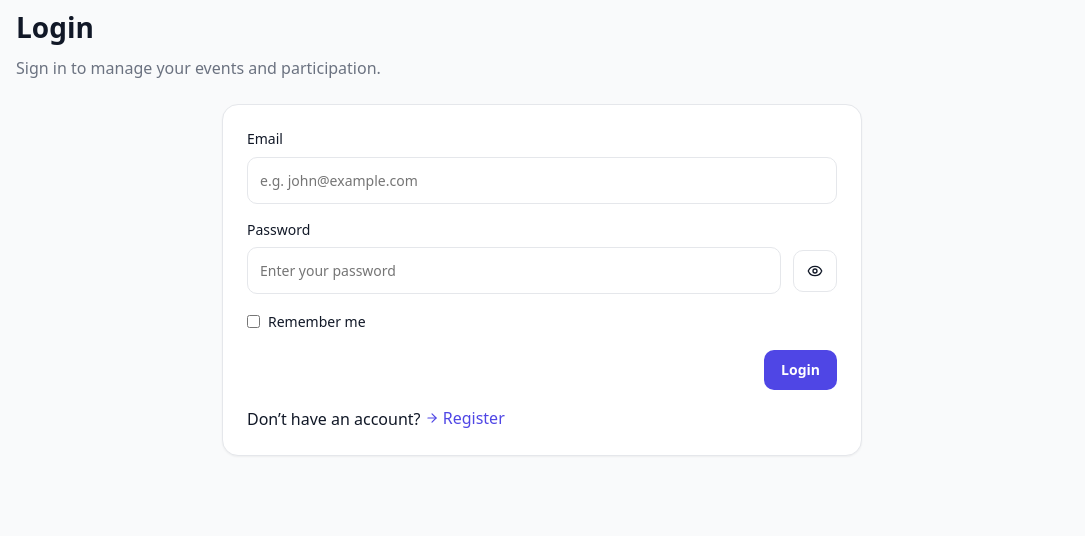
Test case: LoginPage › shows error message when login fails
This screenshot has width=1085, height=536.
Step 1. Type "test@test.com" into the field labelled "Email" → [542, 180], box [247,157,837,204]
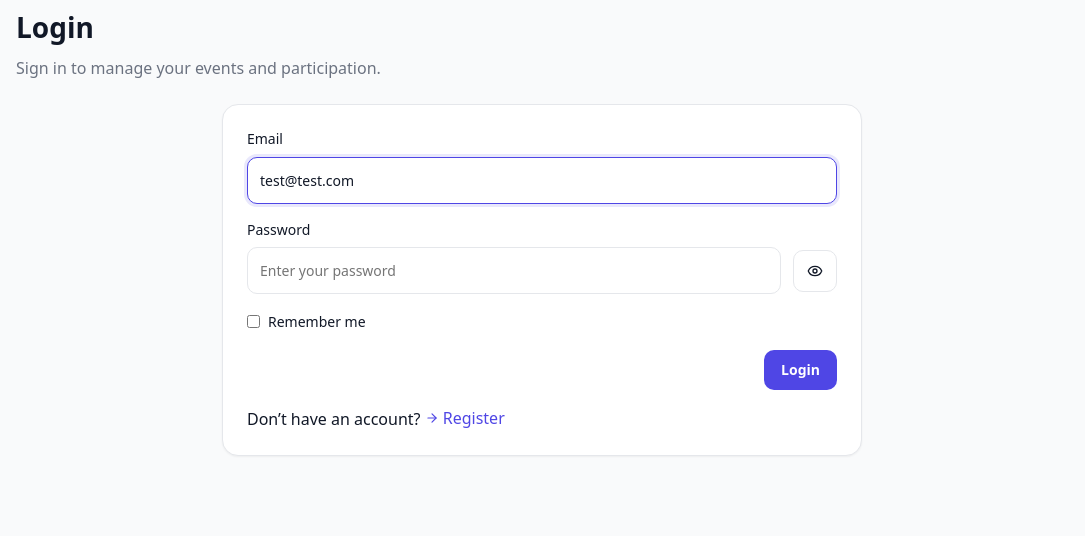
Step 2. Type "Password123" into the password field labelled "Password" → [514, 271], box [247,247,781,294]
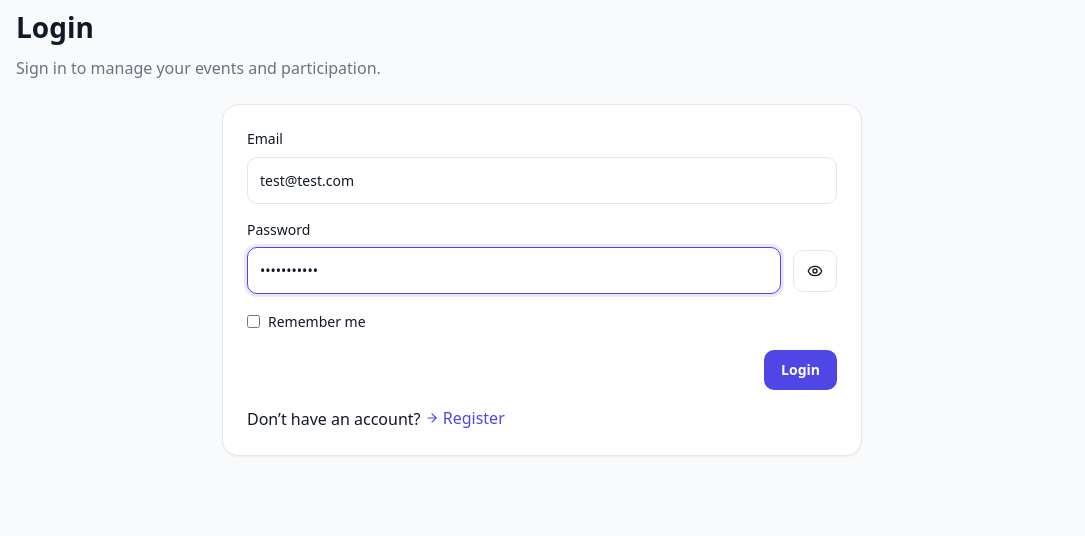
Step 3. Click the button "Login" → [801, 370], box [764,350,837,390]
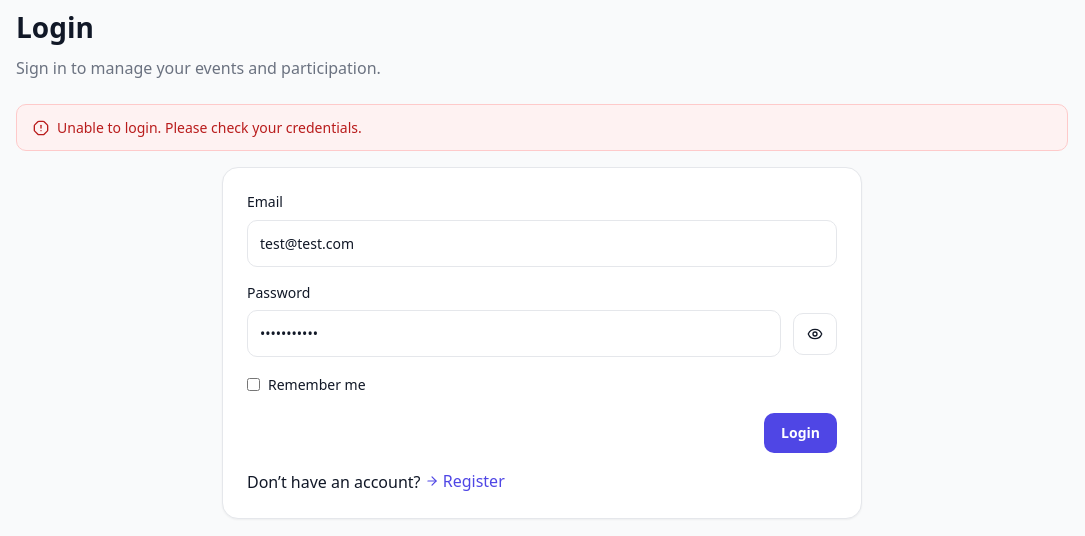
Check: the text "Unable to login. Please check your credentials." is shown, box [57,118,362,137]
